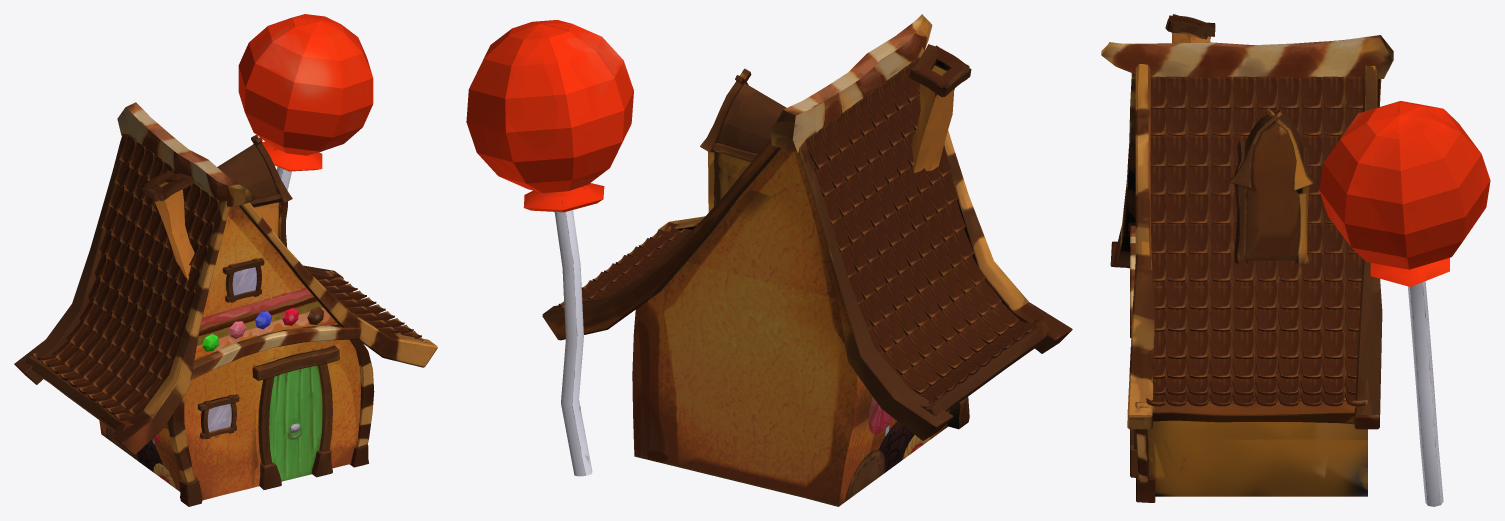
File: casa_bruja.fbx
3 renders of one model, left to right at view 1: azimuth 30°, elevation 25°; view 2: azimuth 150°, elevation 25°; view 3: azimuth 270°, elevation 25°, orthographic. The views are drawn at different scales.
Parts seen in each view (by area): view 1: casa_bruja; view 2: casa_bruja; view 3: casa_bruja.
Part boxes in pixels (x1,y1,x2,y2): casa_bruja: (14,14,437,506); casa_bruja: (466,14,1072,506); casa_bruja: (1101,14,1490,506).
Bounding box in the file's own units: 103 × 93.93 × 78.56.
Materials: 1 (1 with a texture image).
